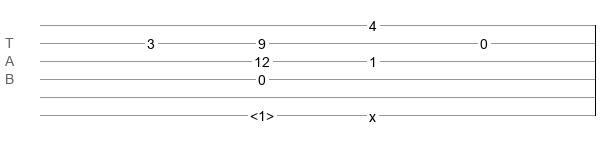0: (258, 72, 266, 82), (480, 36, 488, 46)
1: (369, 54, 377, 64)
12: (254, 54, 270, 64)
3: (147, 36, 155, 46)
4: (369, 18, 377, 28)
9: (258, 36, 266, 46)
harmonic: (250, 108, 274, 118)
x: (369, 109, 376, 117)
